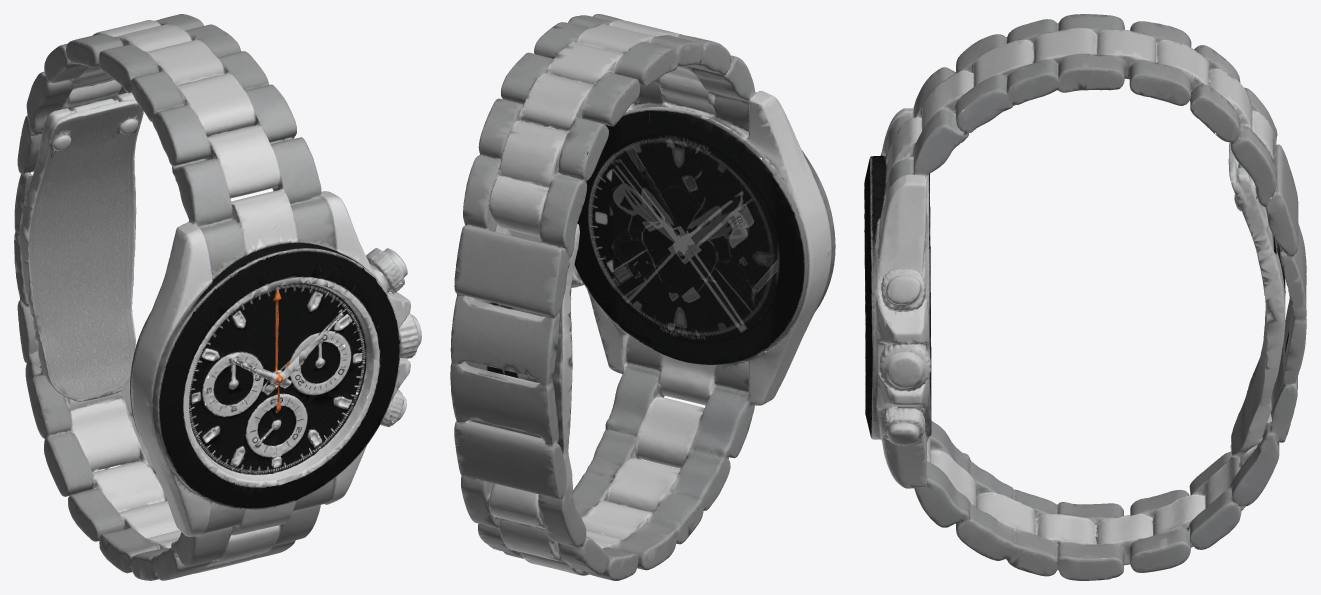
Rendered from relogio.glb.
3 views of the same model, side by side, from view 1: azimuth 30°, elevation 25°; view 2: azimuth 150°, elevation 25°; view 3: azimuth 270°, elevation 25° (orthographic).
Parts seen in each view (by area): view 1: watch; view 2: watch; view 3: watch.
Boxes of the visible parts, x1,y1,x2,y2 form: watch: (14,14,421,580); watch: (450,14,835,580); watch: (864,14,1306,580).
Size of the model in its own units: 1.08 by 1.9 by 1.48.
Materials: 1 (1 with a texture image).
